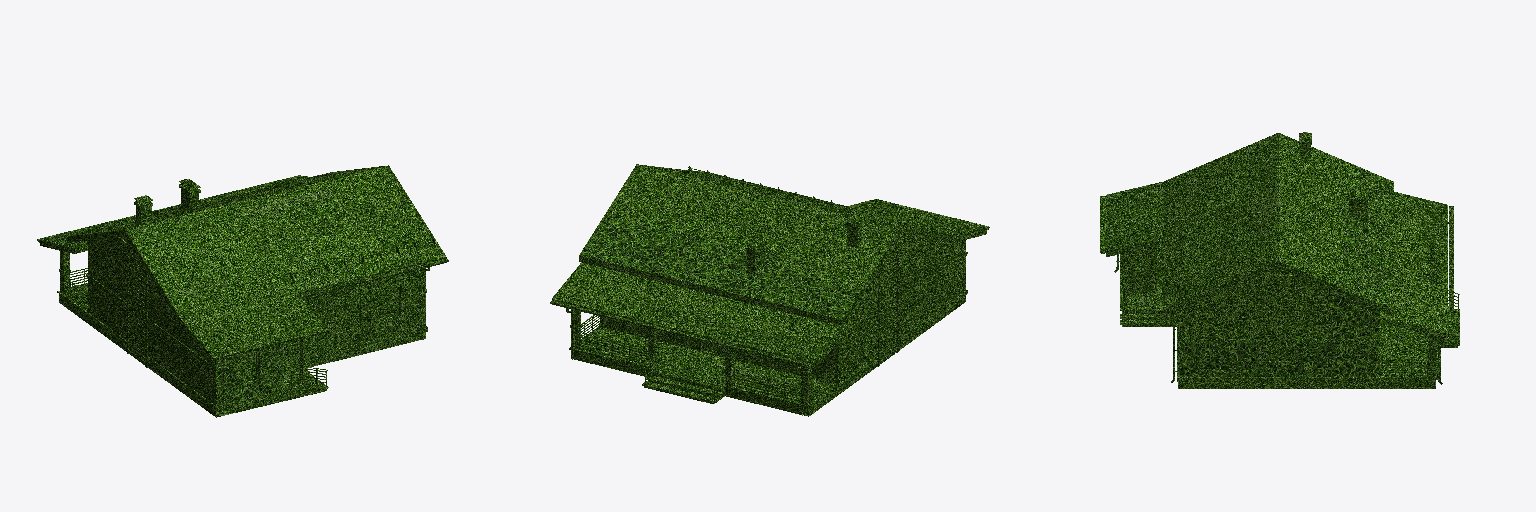
3 renders of one model, left to right at view 1: azimuth 30°, elevation 25°; view 2: azimuth 150°, elevation 25°; view 3: azimuth 270°, elevation 25°, orthographic.
Parts seen in each view (by area): view 1: Cottage_Free; view 2: Cottage_Free; view 3: Cottage_Free.
Part boxes in pixels (bbox=[...]): Cottage_Free: bbox=[37, 165, 448, 417]; Cottage_Free: bbox=[550, 164, 989, 416]; Cottage_Free: bbox=[1100, 132, 1459, 388].
Bounding box in the file's own units: 12.44 × 6.75 × 14.65.
1 materials, 1 textured.